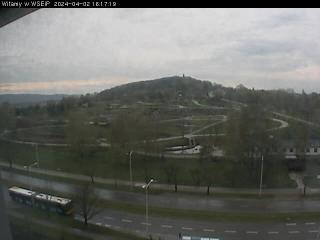bus: (8, 184, 75, 216)
